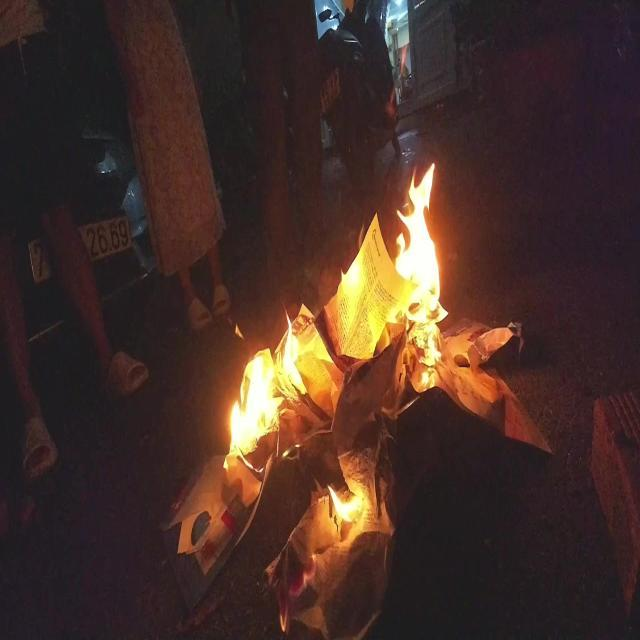Fire: (382, 158, 442, 386), (226, 300, 306, 469), (326, 482, 364, 522)
